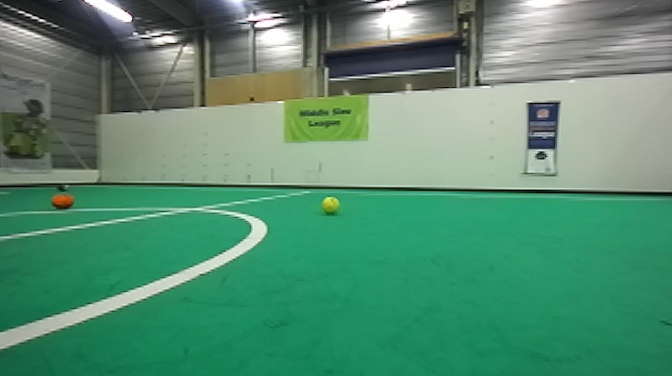ball: (318, 194, 342, 216), (49, 191, 75, 210)
